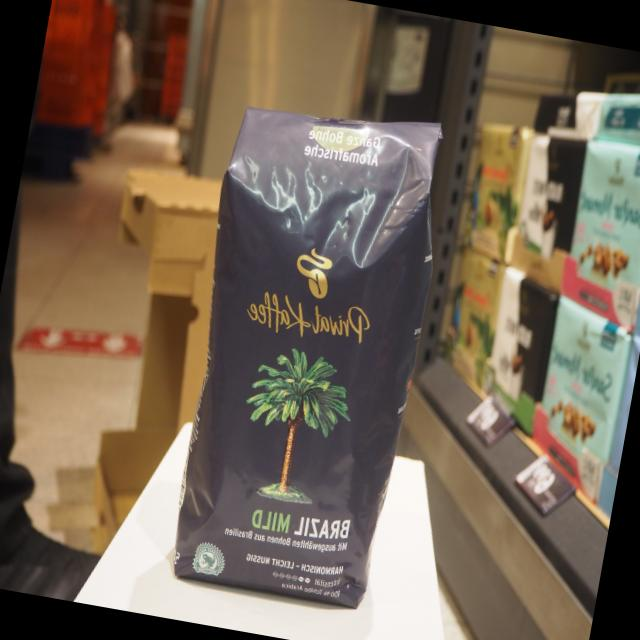BM Bohne: (148, 81, 466, 616)
